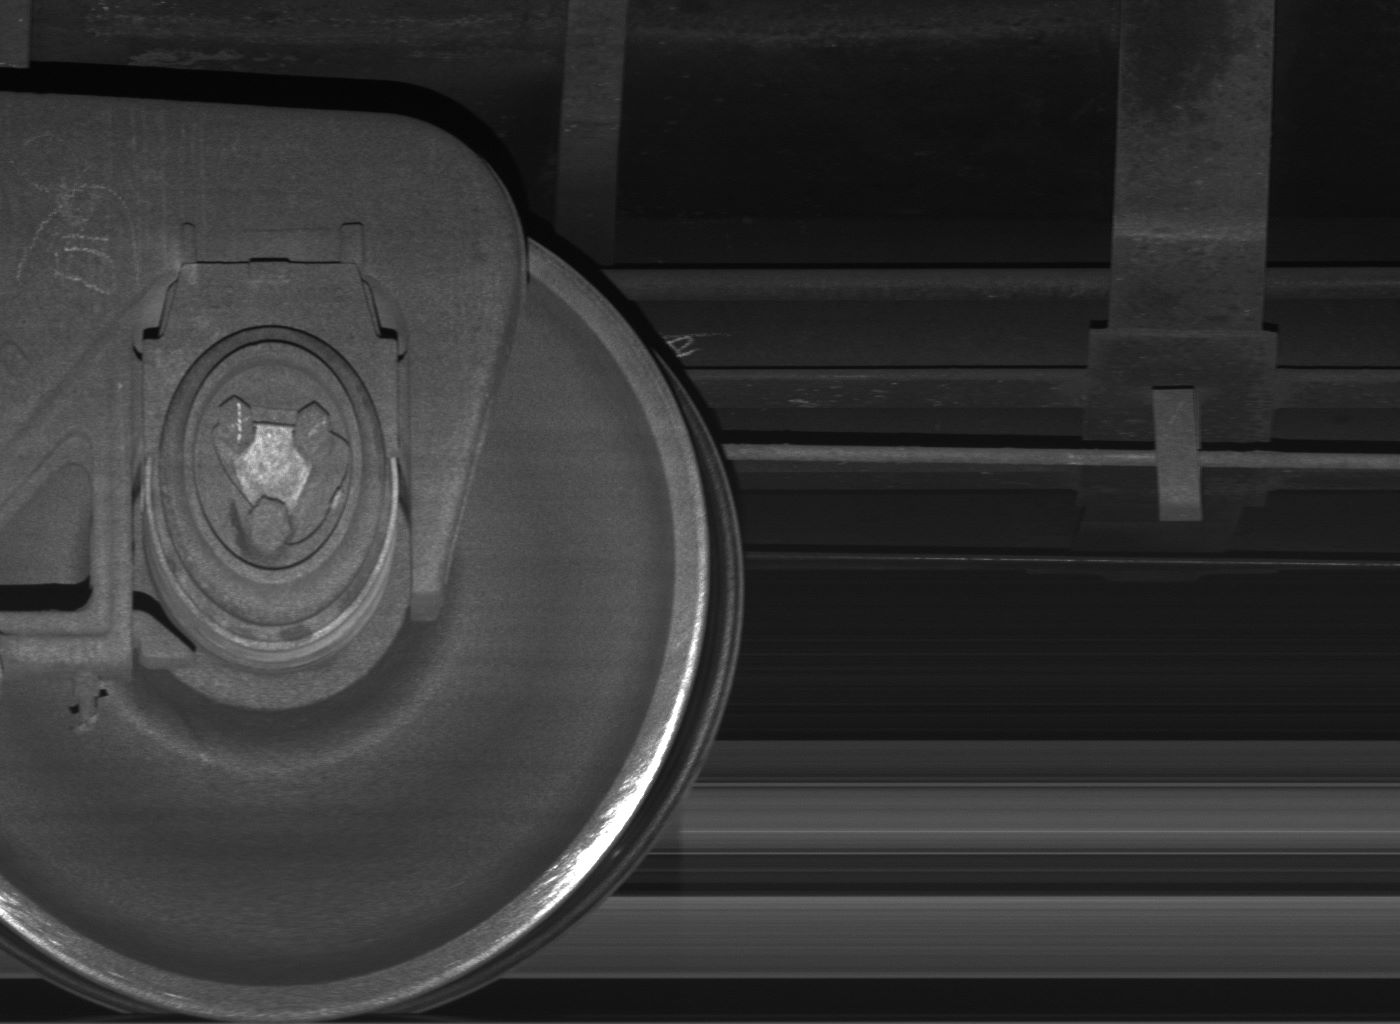normal: (1152, 389, 1207, 521)
